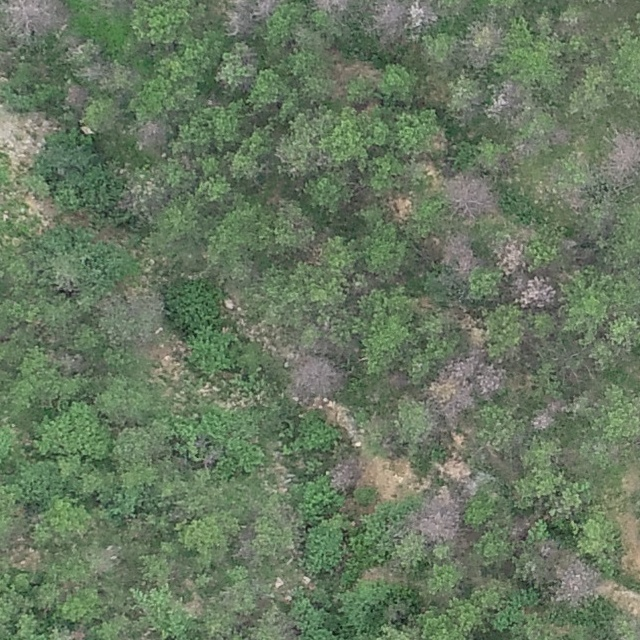unhealthy: (100, 292, 167, 348), (425, 356, 479, 424), (549, 553, 603, 610), (411, 485, 462, 545), (285, 353, 346, 400), (595, 131, 640, 193), (444, 171, 499, 221), (0, 0, 66, 37), (481, 76, 529, 124), (439, 232, 481, 283), (118, 177, 166, 217), (463, 23, 503, 68), (517, 277, 563, 311), (493, 235, 528, 279), (375, 0, 406, 46), (131, 121, 171, 156), (54, 37, 100, 65), (477, 358, 509, 398), (406, 0, 439, 37), (328, 460, 364, 493), (220, 0, 249, 38), (49, 346, 88, 374), (88, 544, 124, 573), (64, 77, 90, 112), (552, 12, 584, 38), (234, 524, 255, 561), (72, 63, 110, 83), (461, 468, 490, 494), (249, 0, 281, 23), (386, 197, 413, 223), (529, 410, 555, 432)
